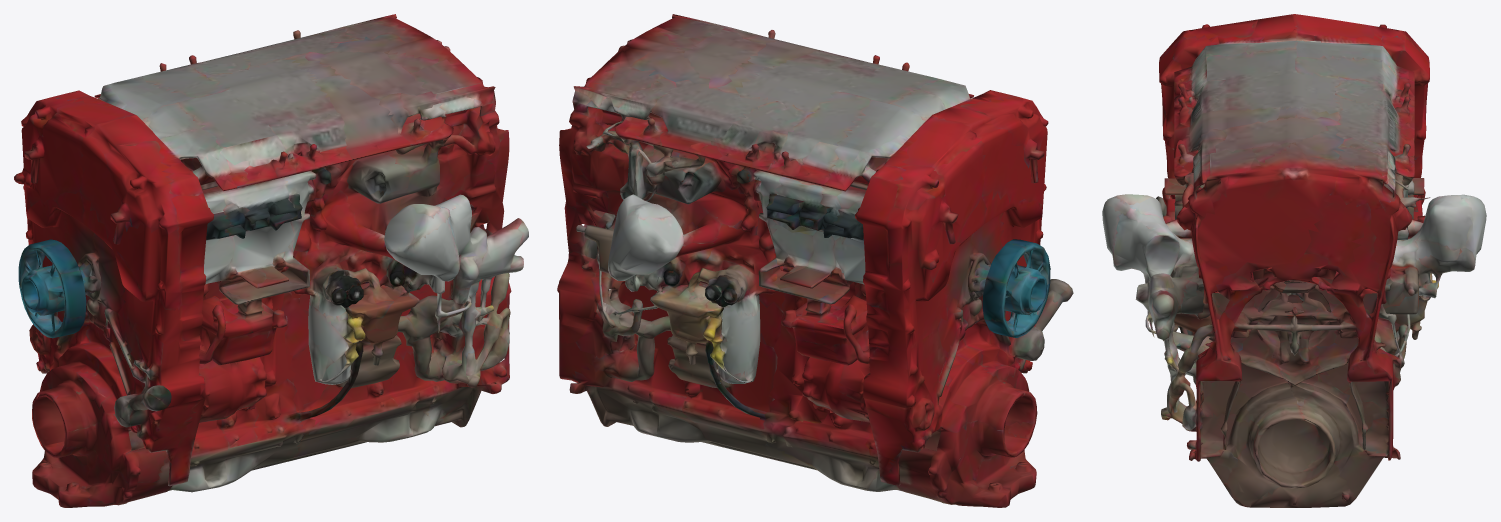
The model's file is motor-cummins-isx-remanufacturado.glb.
3 renders of one model, left to right at view 1: azimuth 30°, elevation 25°; view 2: azimuth 150°, elevation 25°; view 3: azimuth 270°, elevation 25°, orthographic. The views are drawn at different scales.
Size of the model in its own units: 1.9 by 1.55 by 1.58.
Materials: 1 (1 with a texture image).
